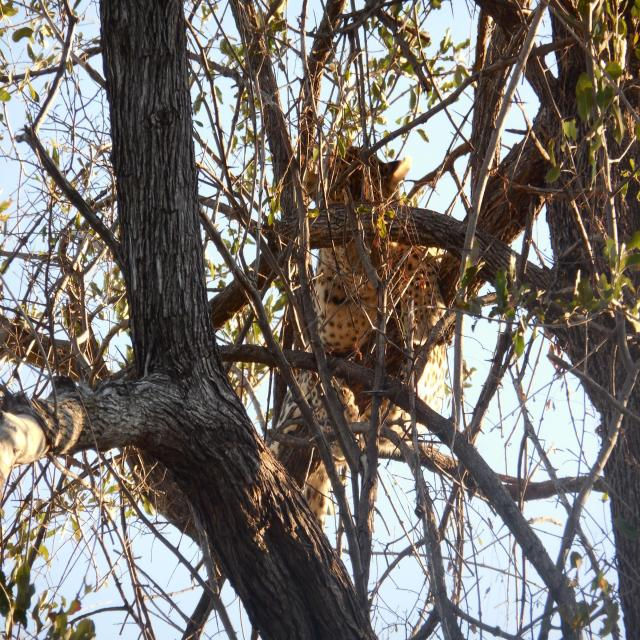Leopard: (262, 142, 446, 527)
